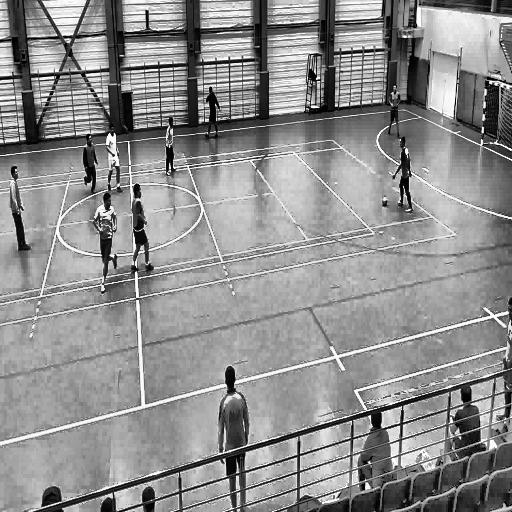ball: (380, 192, 390, 209)
player: (216, 360, 250, 508), (91, 192, 120, 296), (128, 180, 158, 276), (10, 163, 34, 254), (390, 134, 416, 216), (103, 122, 124, 194), (203, 83, 223, 146), (83, 130, 98, 196), (385, 82, 402, 138), (164, 114, 178, 180)
